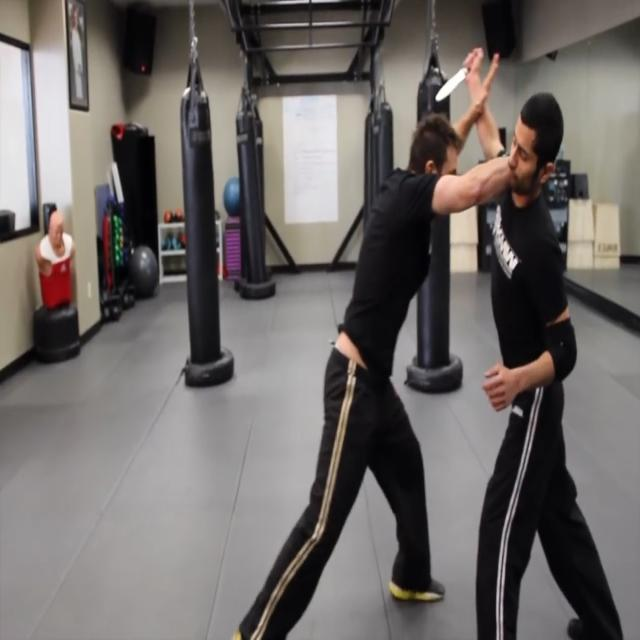knife: (436, 61, 471, 105)
